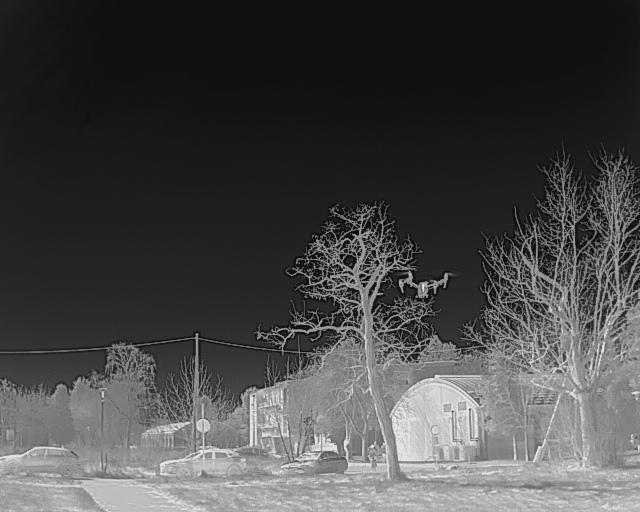drone: (390, 266, 462, 304)
